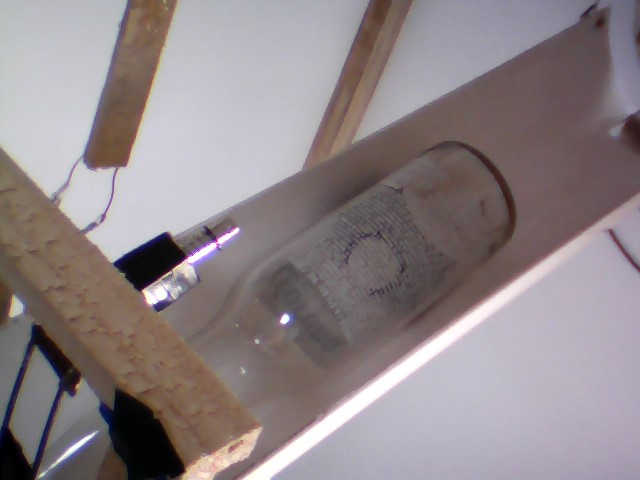vidrio: (175, 132, 522, 415)
